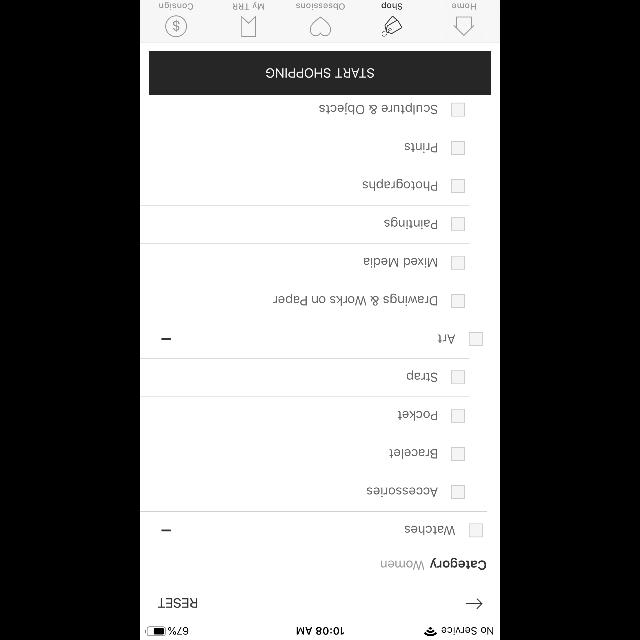checkbox: (468, 332, 482, 346), (452, 141, 464, 155), (452, 217, 464, 231), (452, 256, 464, 270), (452, 294, 464, 308), (452, 370, 464, 384), (452, 409, 464, 423), (452, 485, 464, 499), (470, 524, 482, 538), (452, 104, 464, 116), (452, 180, 464, 192), (452, 448, 464, 460)
icon: (166, 16, 187, 36), (310, 16, 330, 36), (382, 16, 402, 36), (454, 16, 474, 36), (242, 16, 256, 38), (466, 598, 482, 608), (162, 338, 170, 340), (162, 529, 170, 531)
text: (274, 294, 436, 306), (319, 103, 437, 115), (362, 179, 436, 191), (364, 258, 436, 268), (367, 487, 438, 497), (384, 217, 436, 230), (430, 558, 486, 570), (389, 449, 436, 459), (381, 560, 424, 570), (404, 526, 454, 534), (158, 598, 198, 608), (398, 411, 437, 421), (407, 371, 438, 382), (404, 143, 438, 153), (296, 4, 344, 10), (159, 2, 193, 10), (233, 2, 264, 10), (438, 334, 454, 344), (382, 2, 402, 10), (452, 4, 476, 10)
textbutton: (149, 52, 491, 94)
uppertaskbar: (140, 626, 500, 640)
